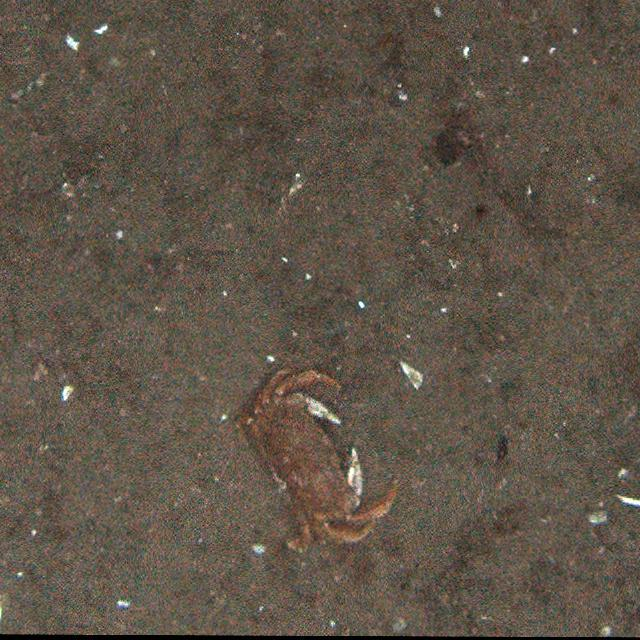crab: (238, 362, 402, 557)
